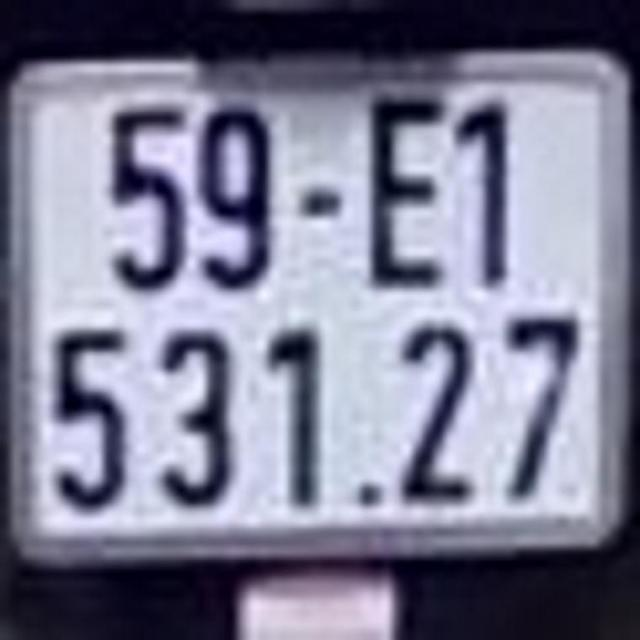1: (450, 70, 539, 288), (261, 311, 347, 514)
2: (383, 306, 492, 499)
3: (151, 302, 237, 508)
5: (40, 304, 136, 509), (101, 89, 190, 296)
7: (500, 298, 589, 509)
9: (193, 74, 282, 301)
E: (358, 63, 452, 297)
